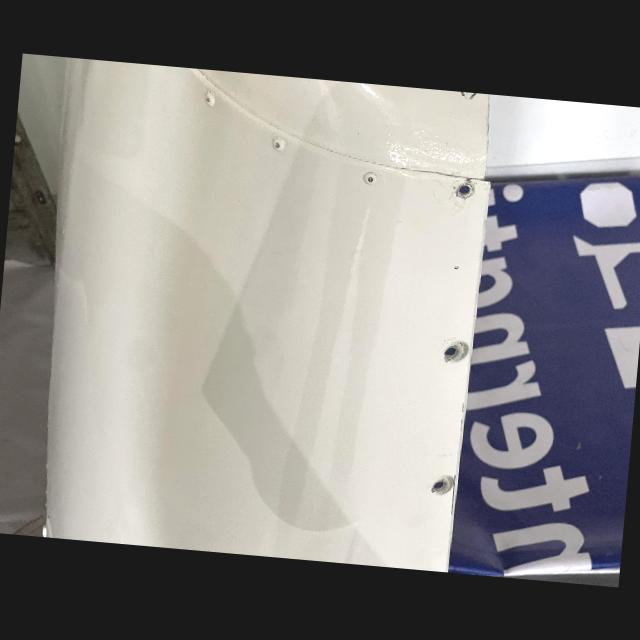Missing Fastener: (431, 332, 471, 367), (422, 466, 456, 499), (448, 176, 482, 204)
